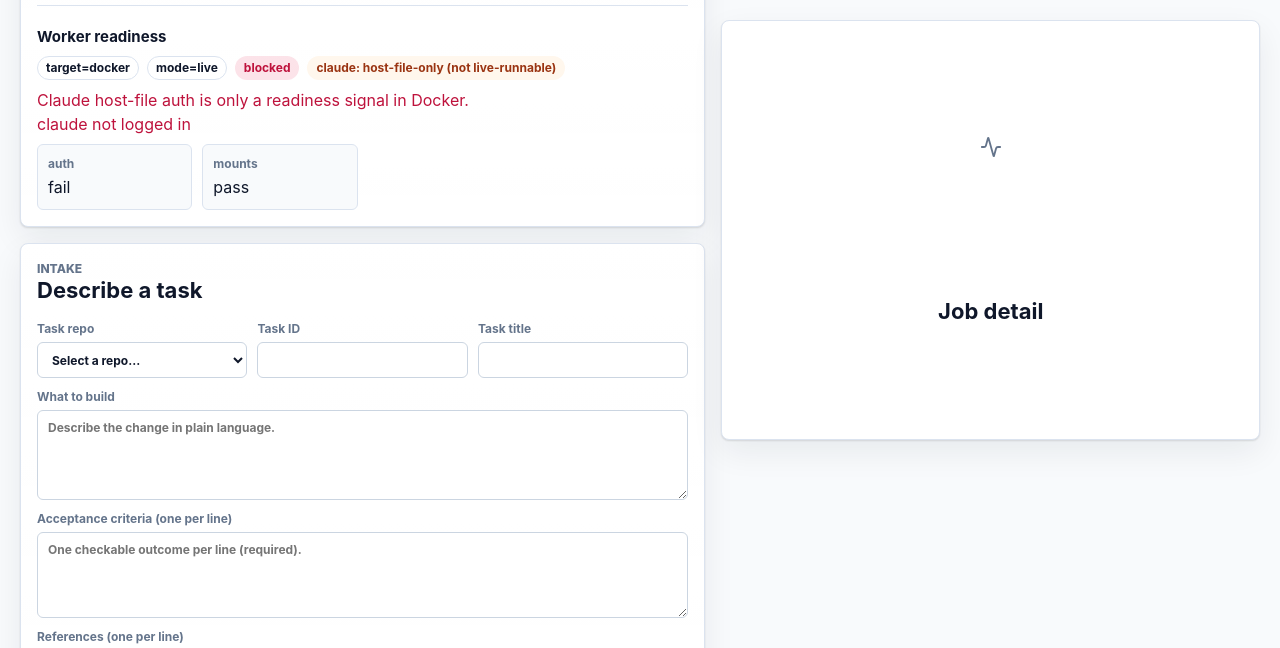
Test: DashboardApp › surfaces an inline brief API rejection instead of failing silently
This screenshot has width=1280, height=648.
(page scrolled)
Select "pando" in the dropdown labelled "Task repo". click: (142, 360)
box: [37,342,248,378]
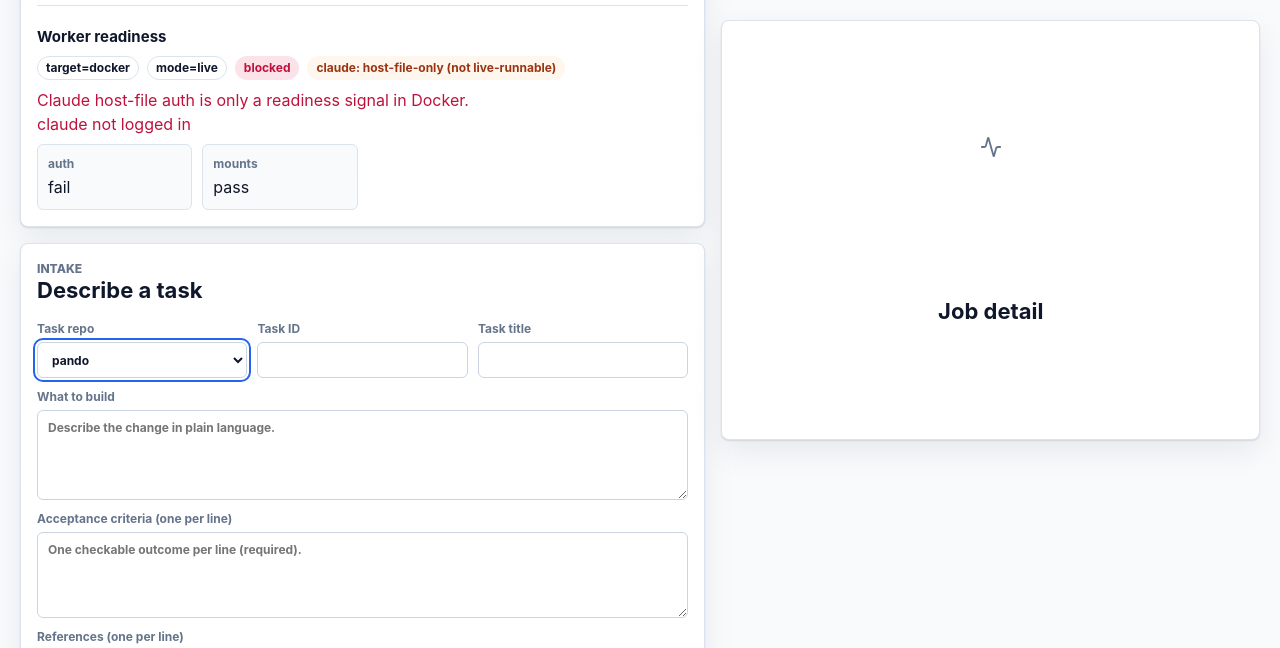
Type "footer-year" into the field labelled "Task ID". click: (363, 360)
box: [258,342,468,378]
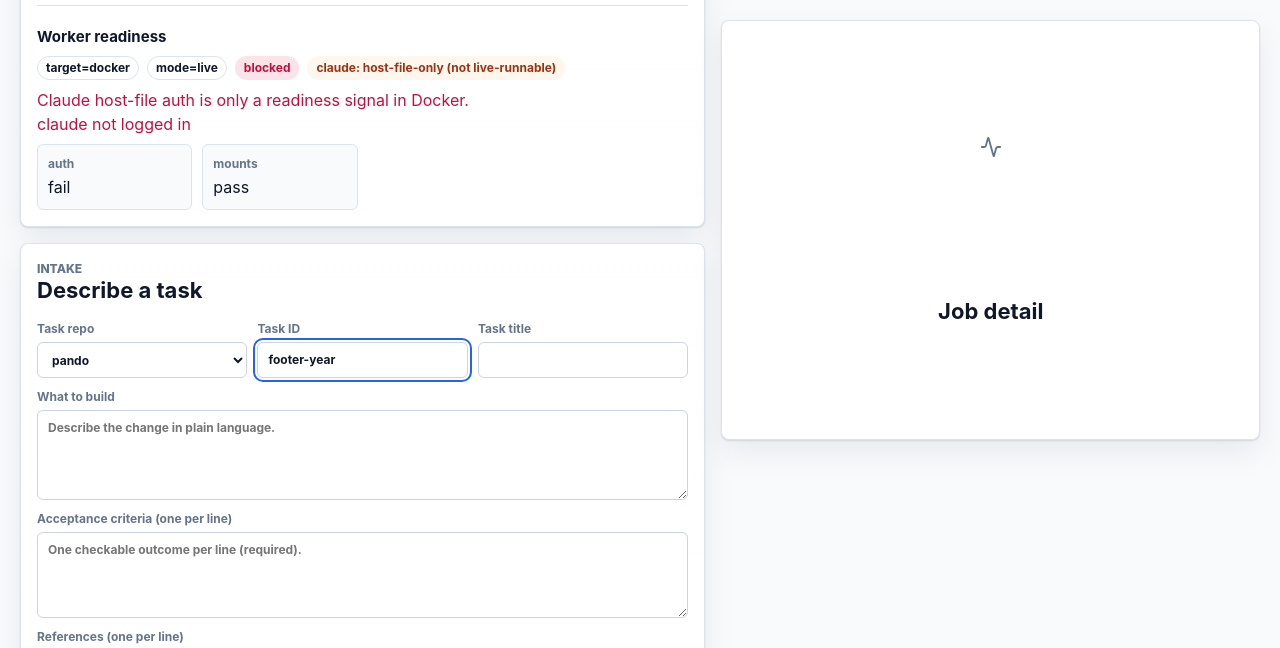
Type "Make the footer year dynamic." into the text box labelled "What to build". click: (363, 455)
box: [37,410,688,500]
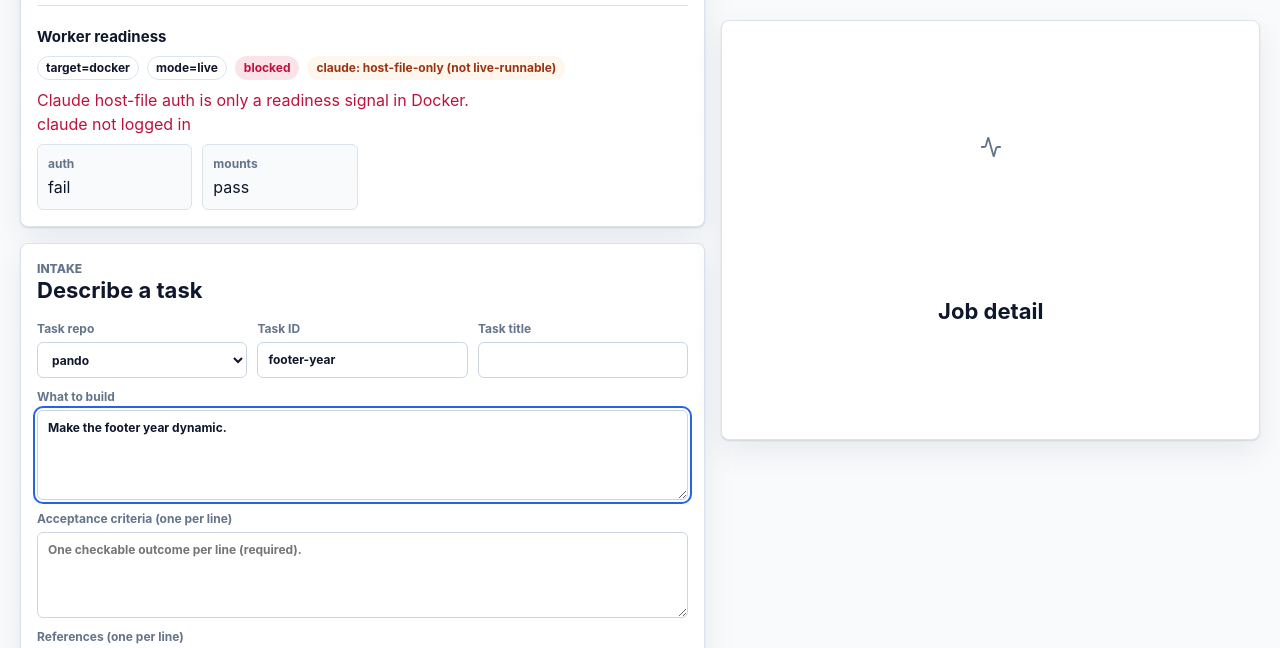
Type "The footer shows the current year" into the text box labelled "Acceptance criteria (one per line)". click: (363, 575)
box: [37,532,688,618]
(page scrolled)
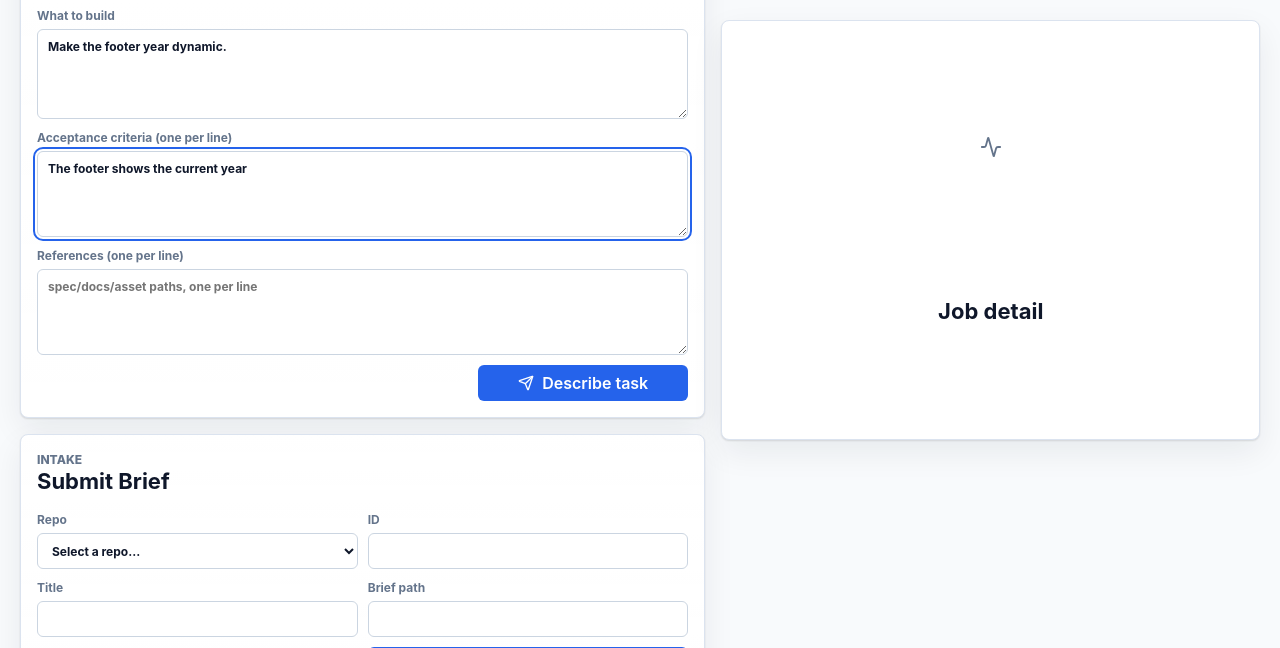
Click the button "Describe task". click: (583, 383)
box: [478,365,688,401]
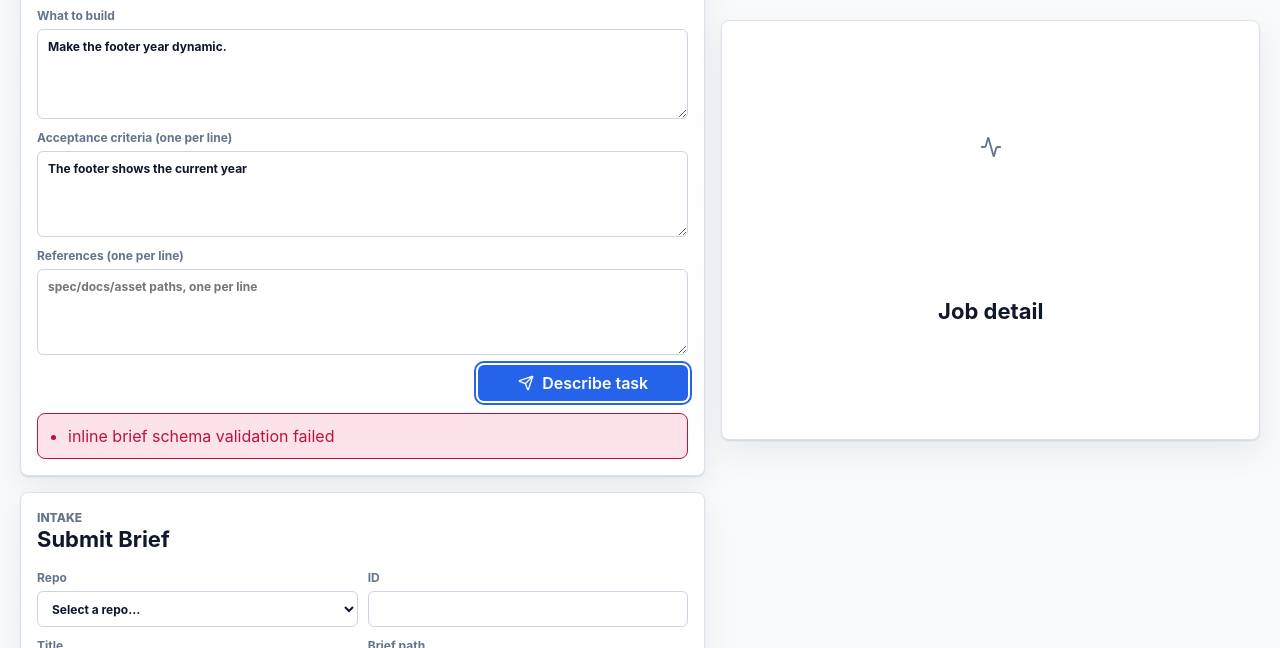
Result: the list item "inline brief schema validation failed" is shown at [68,426,334,446]
